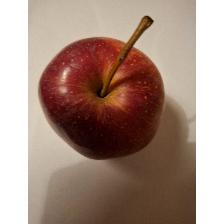Apfel: (34, 13, 168, 160)
